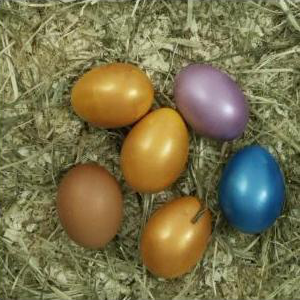egg: (137, 195, 212, 280), (120, 107, 190, 193), (56, 164, 125, 249), (218, 146, 285, 232), (71, 63, 155, 129), (174, 64, 247, 138)
